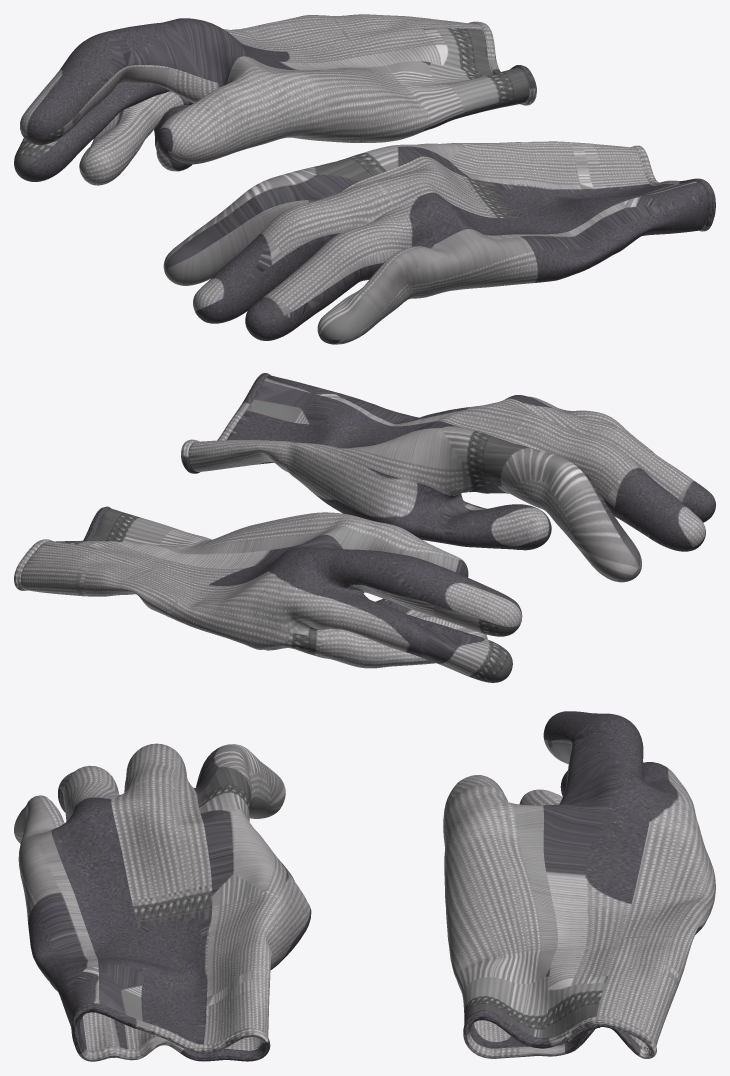
Rendered from ppe_gloves_cloth_a01.glb.
The picture shows the model from 3 angles, top to bottom: view 1: azimuth 30°, elevation 25°; view 2: azimuth 150°, elevation 25°; view 3: azimuth 270°, elevation 25°; orthographic projection. The views are drawn at different scales.
Visible parts, largest first — view 1: glove_02_mesh_00_0; view 2: glove_02_mesh_00_0; view 3: glove_02_mesh_00_0.
Part boxes in pixels (left/top/right/bottom): glove_02_mesh_00_0: left=14, top=14, right=715, bottom=344; glove_02_mesh_00_0: left=14, top=373, right=715, bottom=682; glove_02_mesh_00_0: left=14, top=711, right=715, bottom=1061.
Bounding box in the file's own units: 0.233 × 0.0533 × 0.2517.
1 material, 1 textured.
